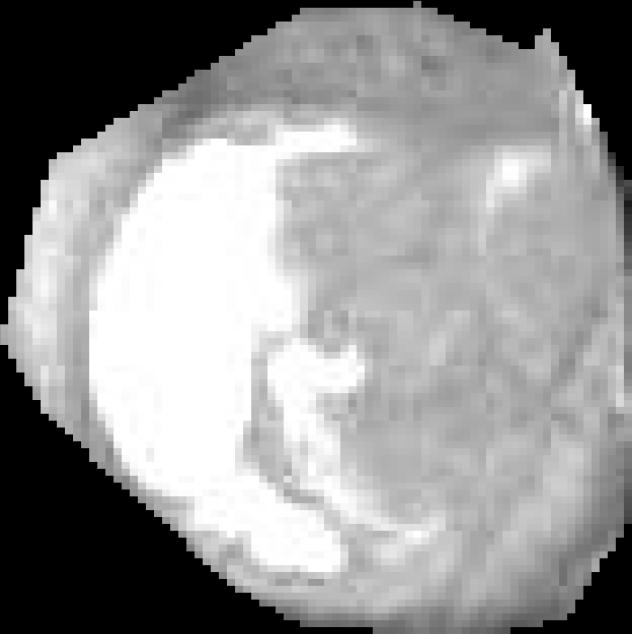tumor_moderate_chance: (0, 1, 632, 634)
